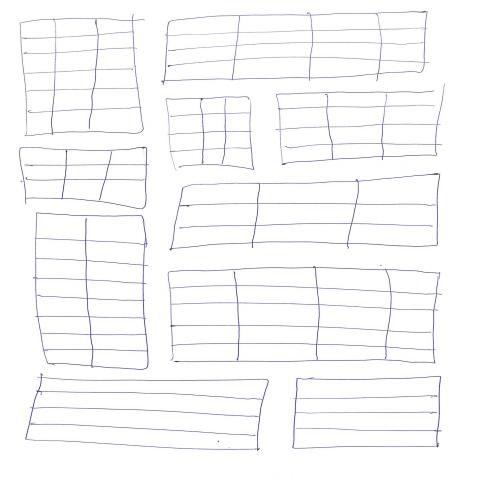Table: (165, 266, 440, 364), (167, 172, 441, 250), (161, 9, 428, 83), (23, 375, 269, 451), (34, 211, 149, 370), (18, 15, 146, 137), (274, 89, 447, 166), (290, 374, 441, 450), (16, 145, 148, 210), (165, 95, 255, 171)
